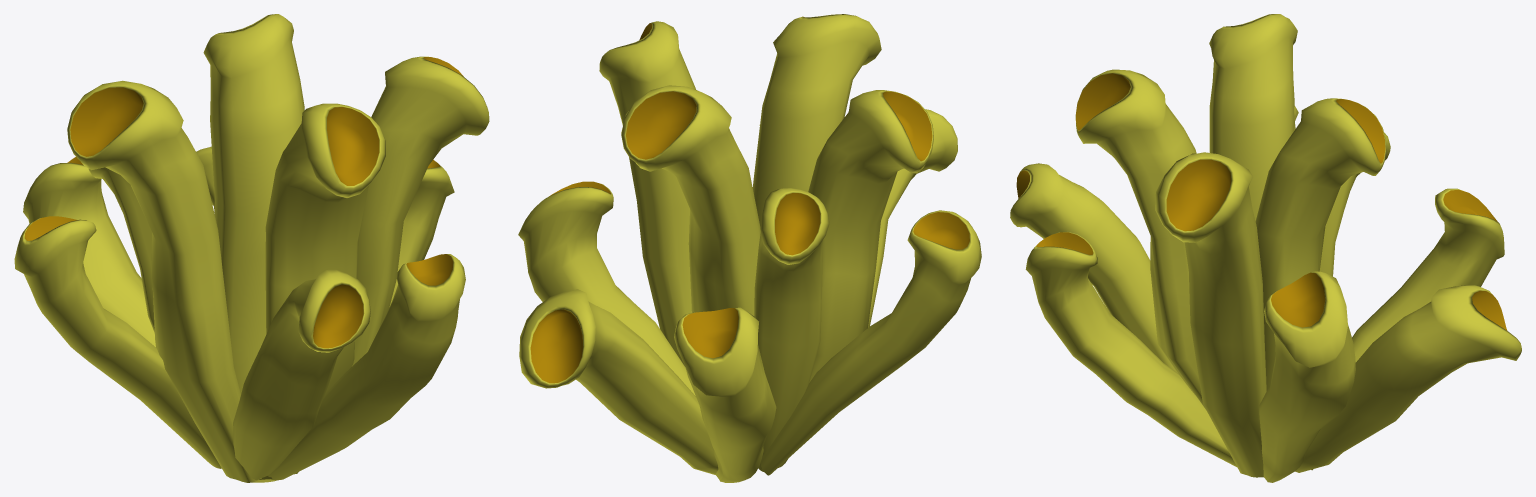
Rendered from SM_PlantCorals_Messy_Placeholder.fbx.
3 views of the same model, side by side, from view 1: azimuth 30°, elevation 25°; view 2: azimuth 150°, elevation 25°; view 3: azimuth 270°, elevation 25° (orthographic). The views are drawn at different scales.
Parts seen in each view (by area): view 1: SM_PlantCoral_Messy; view 2: SM_PlantCoral_Messy; view 3: SM_PlantCoral_Messy.
Part boxes in pixels (x1=…): SM_PlantCoral_Messy: x1=14, y1=14, x2=489, y2=482; SM_PlantCoral_Messy: x1=518, y1=14, x2=981, y2=482; SM_PlantCoral_Messy: x1=1010, y1=14, x2=1521, y2=482.
Size of the model in its own units: 248 by 222 by 264.
